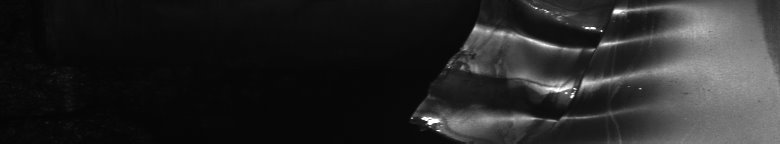ke: (484, 4, 670, 132)
